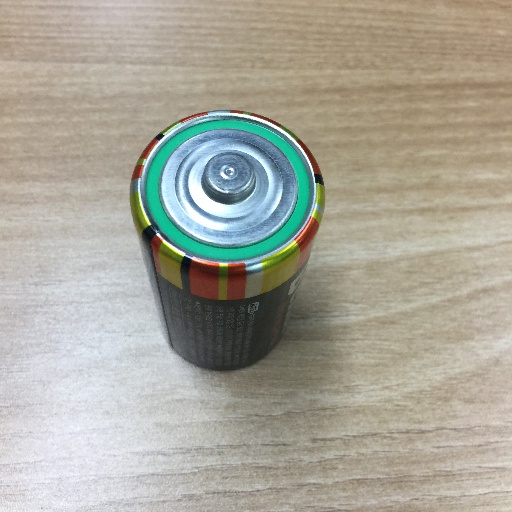Battery_0: (125, 104, 334, 378)
